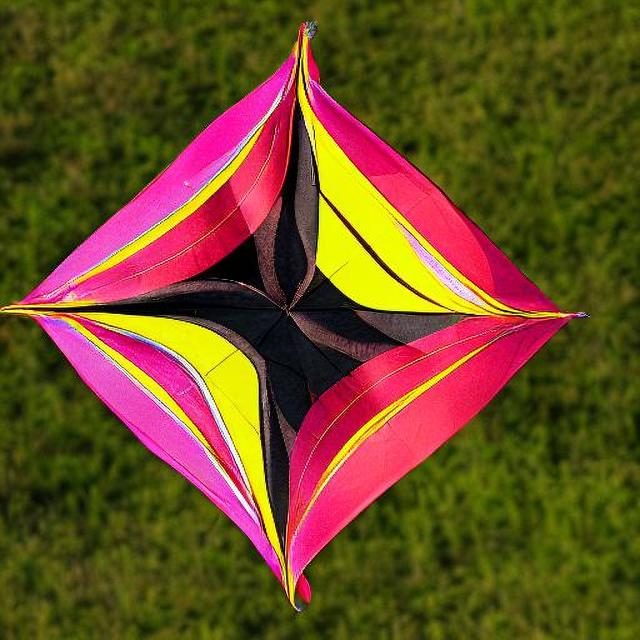floating object: (35, 22, 566, 608)
